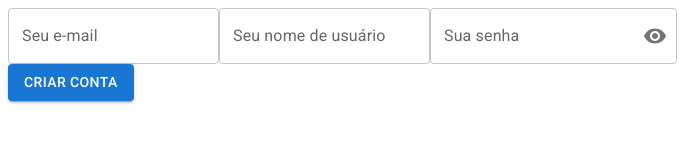
Test case: Create Account Form - account validation schema › renders inputs error messages when try submit form with empty values
Click the button "Criar conta" at (71,82), box left=8, top=64, right=134, bottom=100
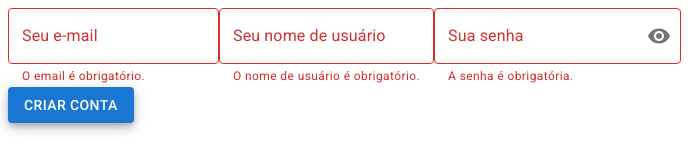
Now the text "O email é obrigatório." is shown, box left=22, top=69, right=145, bottom=83
Now the text "O nome de usuário é obrigatório." is shown, box left=233, top=67, right=420, bottom=87
Now the text "A senha é obrigatória." is shown, box left=448, top=69, right=573, bottom=83
